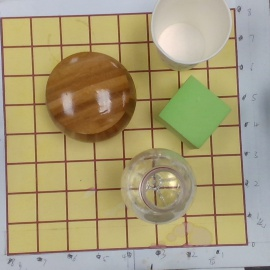chess: (45, 52, 135, 142)
cup: (122, 149, 197, 224), (151, 1, 229, 73)
